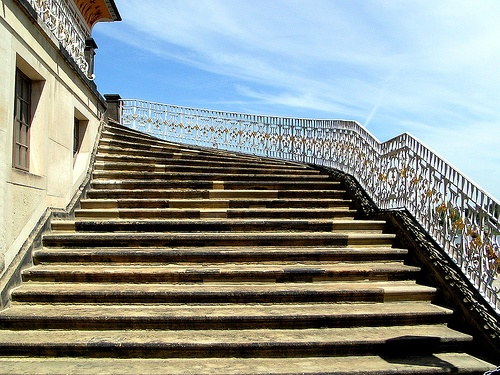stairs_up: (65, 129, 430, 375)
